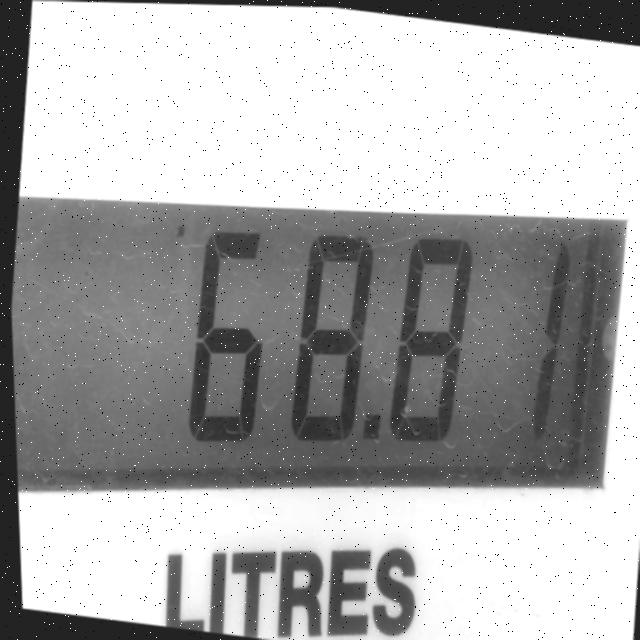.: (346, 393, 385, 460)
1: (494, 227, 591, 455)
6: (169, 214, 290, 454)
8: (371, 227, 495, 457), (273, 219, 383, 457)
